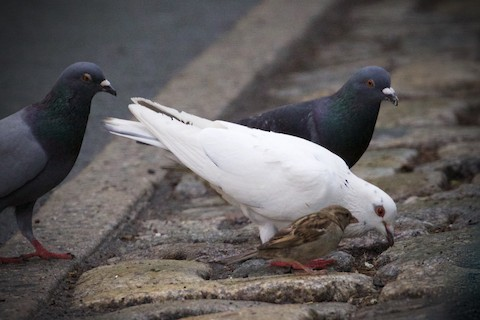pigeon: (99, 94, 400, 271), (171, 64, 401, 216), (4, 56, 122, 276)
